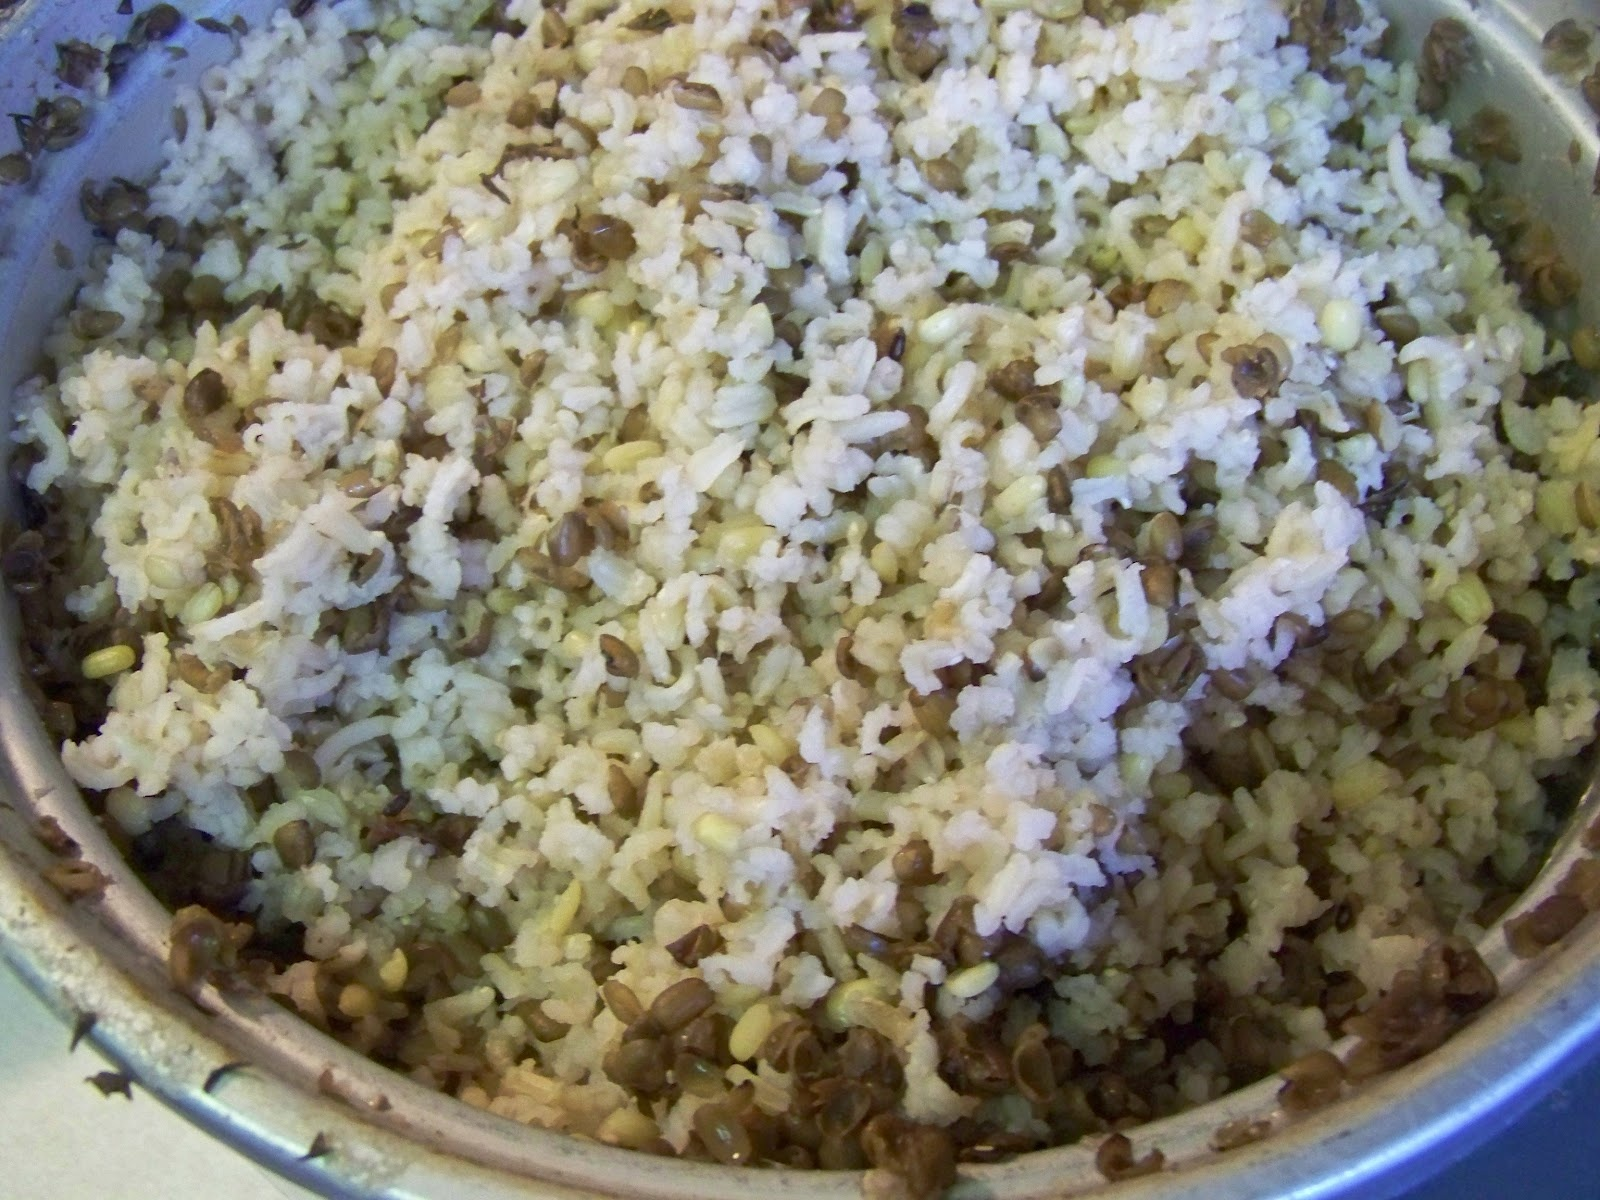kiribath: (0, 9, 1559, 1167)
